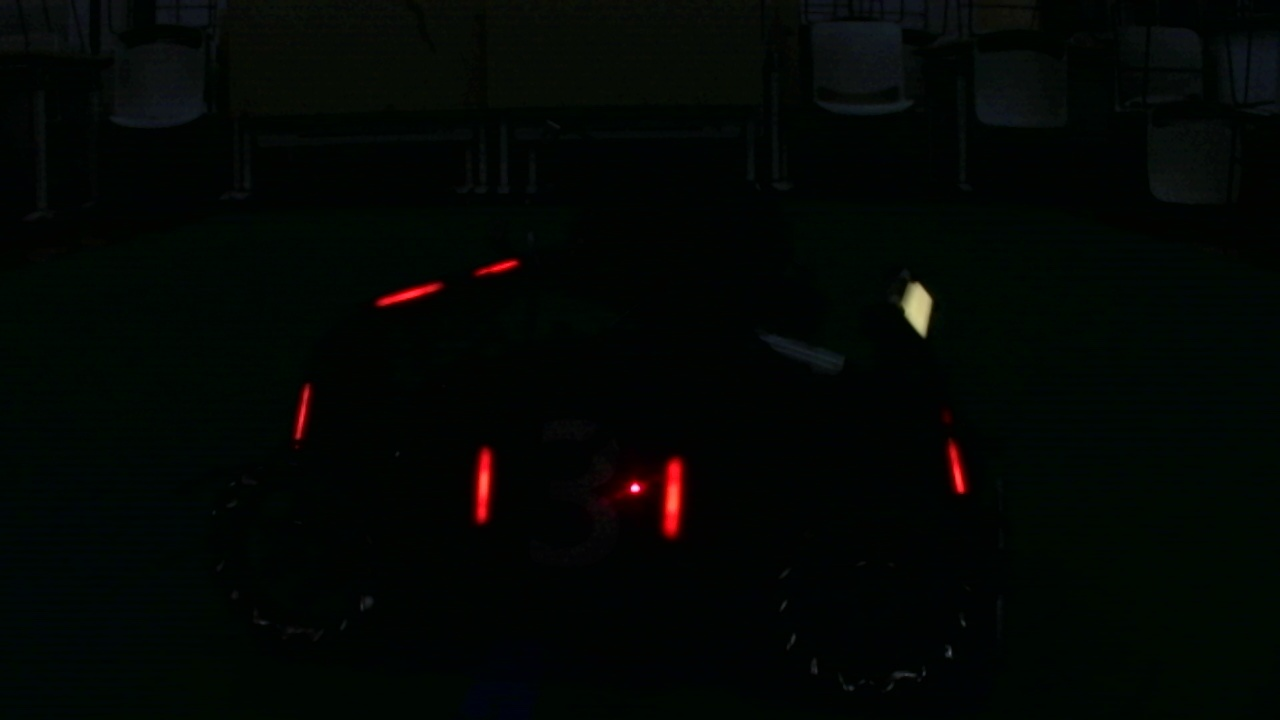lamp: (470, 440, 495, 526), (661, 454, 683, 538)
pair1: (471, 443, 683, 535)
